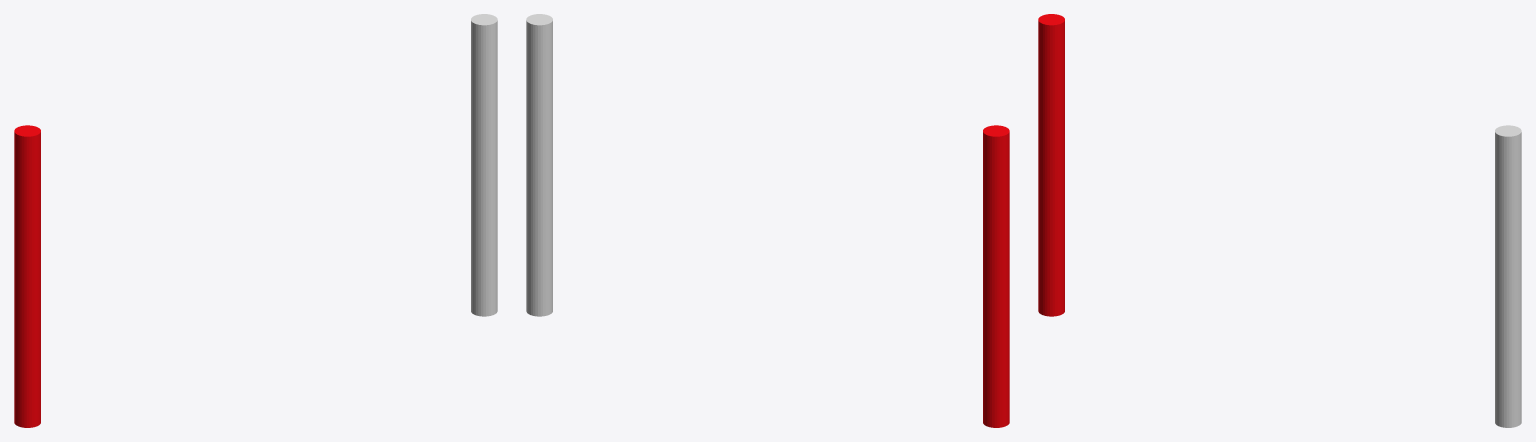
File: cannalTaskv2.dae
3 views of the same model, side by side, from view 1: azimuth 30°, elevation 25°; view 2: azimuth 150°, elevation 25°; view 3: azimuth 330°, elevation 25° (orthographic).
Parts seen in each view (by area): view 1: Cylinder.002, Cylinder; view 2: Cylinder.002, Cylinder; view 3: Cylinder.002, Cylinder.
Part boxes in pixels (bbox=[...]): Cylinder.002: bbox=[14, 125, 40, 427]; Cylinder: bbox=[471, 14, 497, 316]; Cylinder.002: bbox=[983, 125, 1009, 427]; Cylinder: bbox=[526, 14, 552, 316]; Cylinder.002: bbox=[1038, 14, 1064, 316]; Cylinder: bbox=[1495, 125, 1521, 427].
Size of the model in its own units: 1.58 by 0.0762 by 0.9144.
